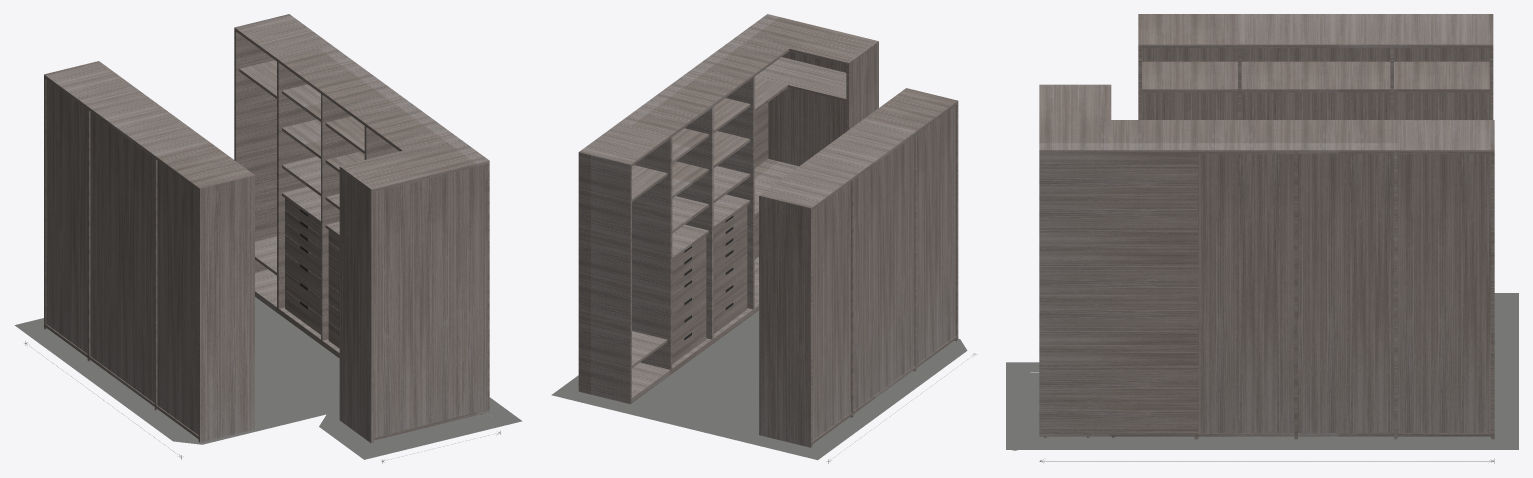
Rendered from C2-D1-PC-Drawers-SC.obj.
The picture shows the model from 3 angles, left to right: view 1: azimuth 30°, elevation 25°; view 2: azimuth 150°, elevation 25°; view 3: azimuth 270°, elevation 25°; orthographic projection. The views are drawn at different scales.
Parts seen in each view (by area): view 1: Mesh2 Model, Mesh8 Model, Mesh5 Model, Mesh6 Model, Mesh4 Model; view 2: Mesh2 Model, Mesh8 Model, Mesh5 Model, Mesh6 Model, Mesh4 Model; view 3: Mesh2 Model, Mesh8 Model, Mesh10 Model.
Boxes of the visible parts, x1,y1,x2,y2 form: Mesh2 Model: (44, 14, 492, 447); Mesh8 Model: (14, 318, 522, 459); Mesh5 Model: (282, 156, 320, 195); Mesh6 Model: (282, 119, 320, 158); Mesh4 Model: (282, 84, 320, 121); Mesh2 Model: (578, 14, 959, 448); Mesh8 Model: (551, 339, 967, 460); Mesh5 Model: (672, 196, 708, 233); Mesh6 Model: (672, 161, 708, 198); Mesh4 Model: (672, 128, 708, 163); Mesh2 Model: (1030, 14, 1494, 439); Mesh8 Model: (1006, 293, 1518, 449); Mesh10 Model: (1142, 61, 1237, 92).
Bounding box in the file's own units: 122 × 109 × 166.
5 materials, 2 textured.
